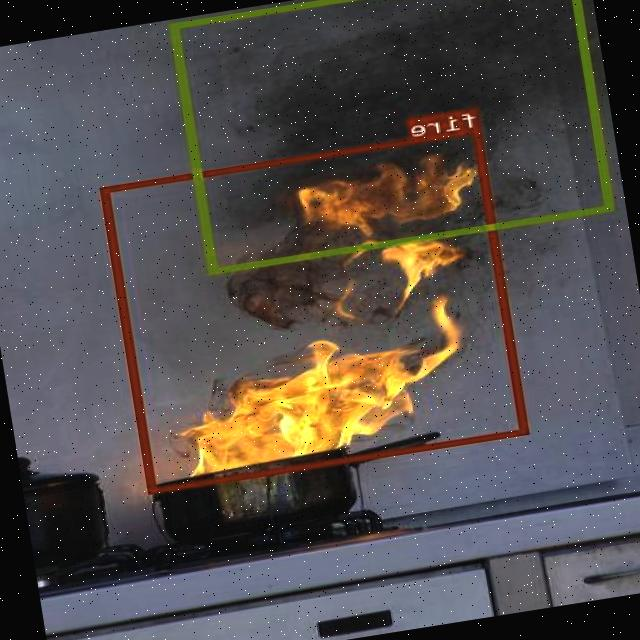fire: (102, 126, 530, 492)
smoke: (172, 0, 616, 273)
